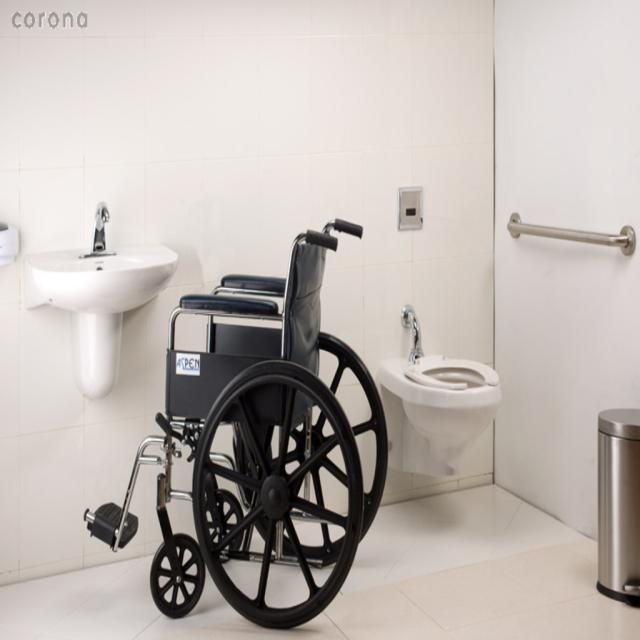wheelchairs: (88, 219, 386, 626)
